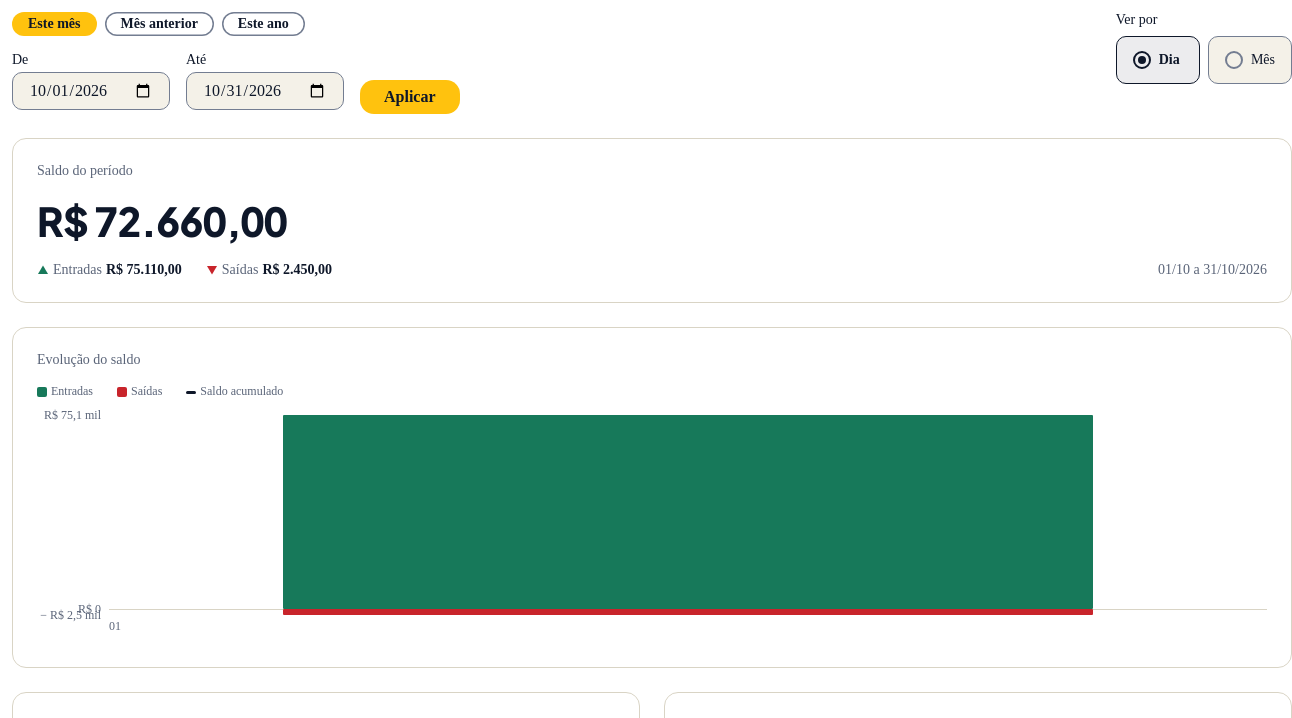
it: FluxoCaixa: período › período acima de 366 dias mostra o erro no campo e não muda o endereço
Expected: the heading "Saldo do período" is shown, [37,163,133,178]
Type "2026-01-10" into the date field labelled "De" at (91, 91), box [12,72,170,110]
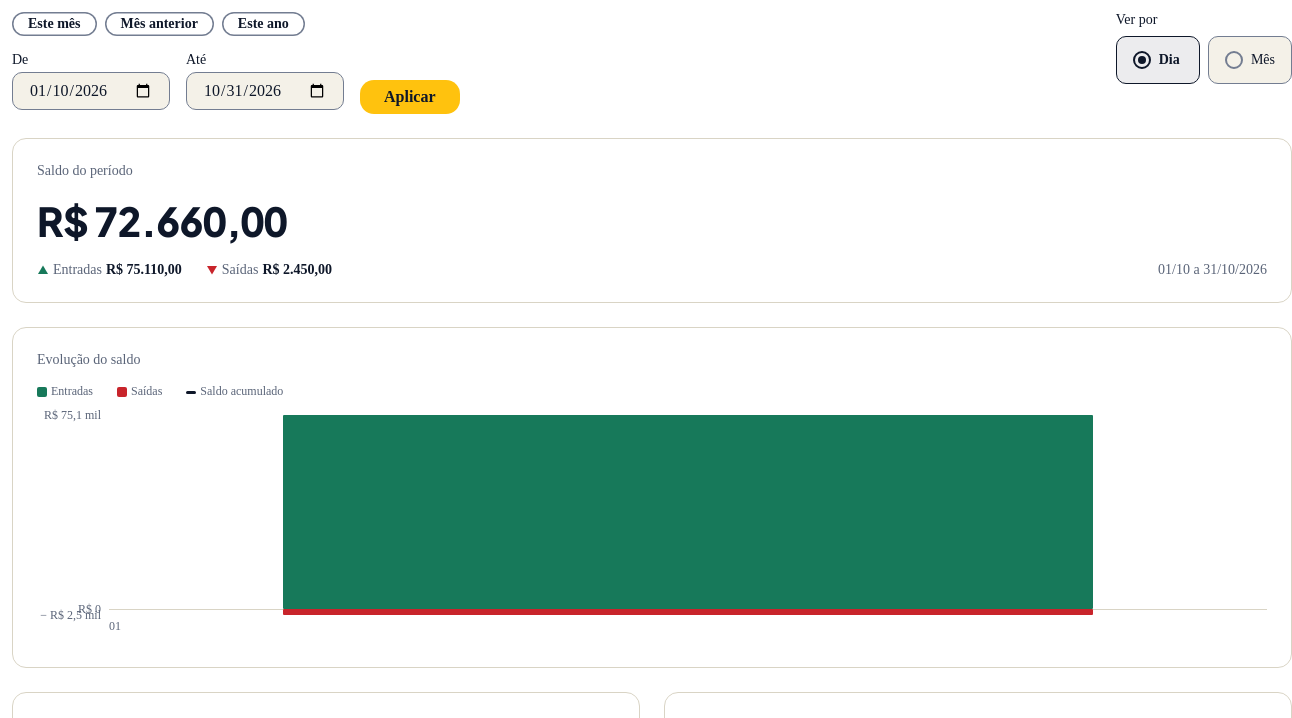
Type "2027-01-11" into the date field labelled "Até" at (265, 91), box [186,72,344,110]
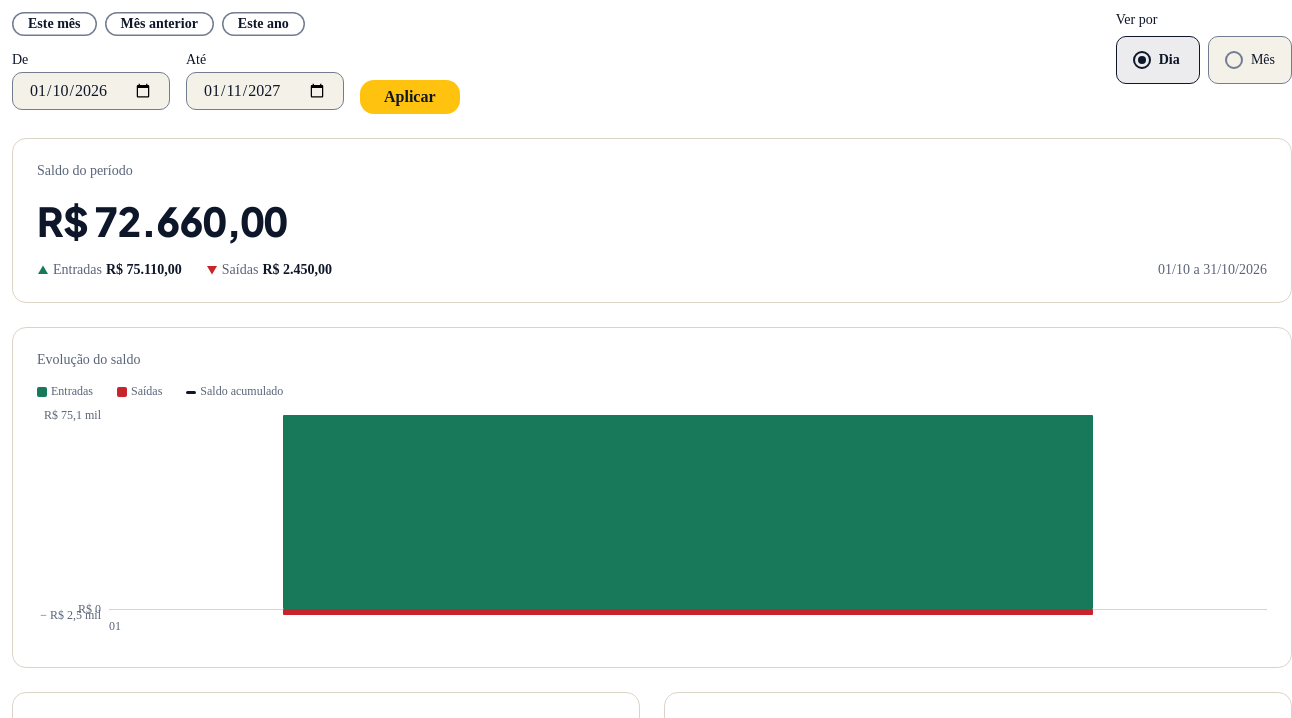
Click the button "Aplicar" at (410, 97), box [360,80,460,114]
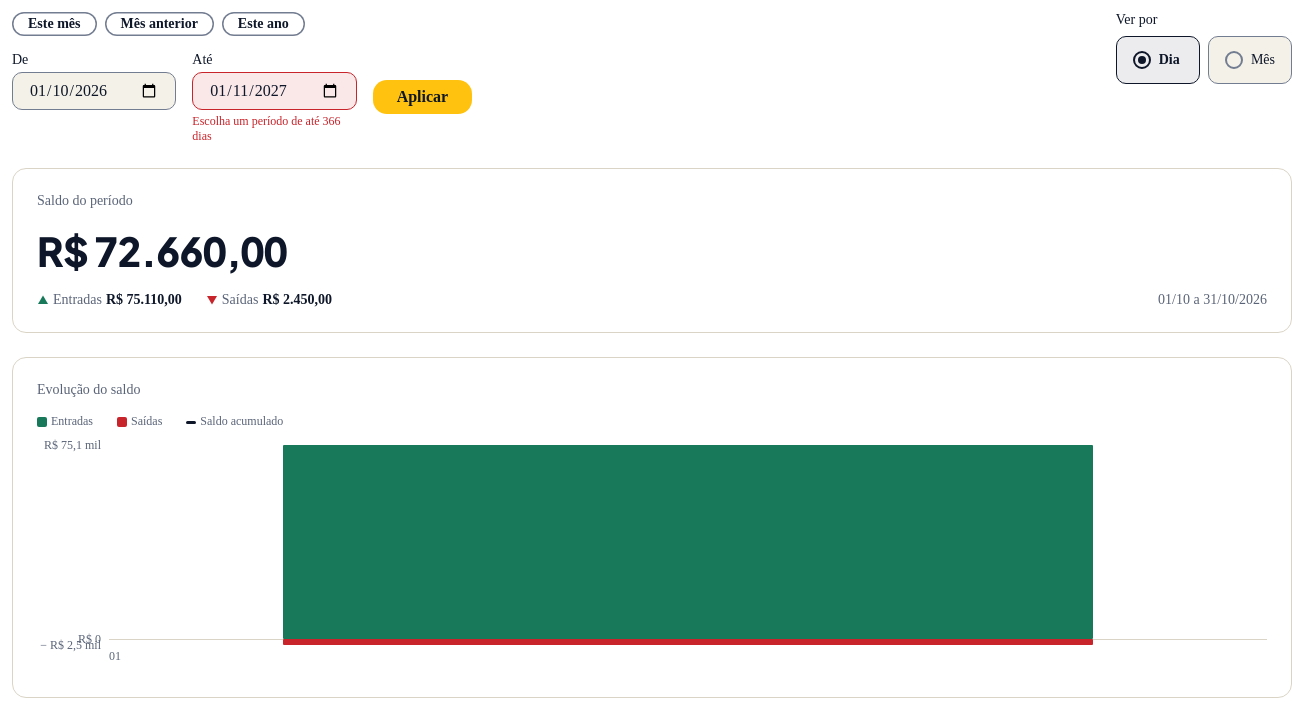
Result: the text "Escolha um período de até 366 dias" is shown at [192,114,357,144]
